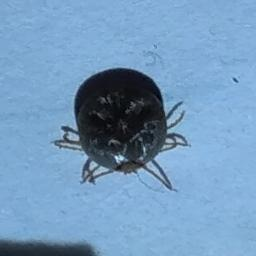Rhipicephalus sanguineus: (55, 85, 193, 192)
